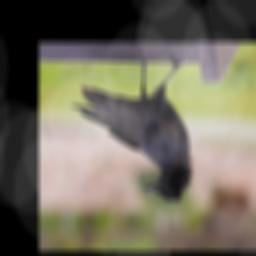Crow: (70, 52, 194, 203)
